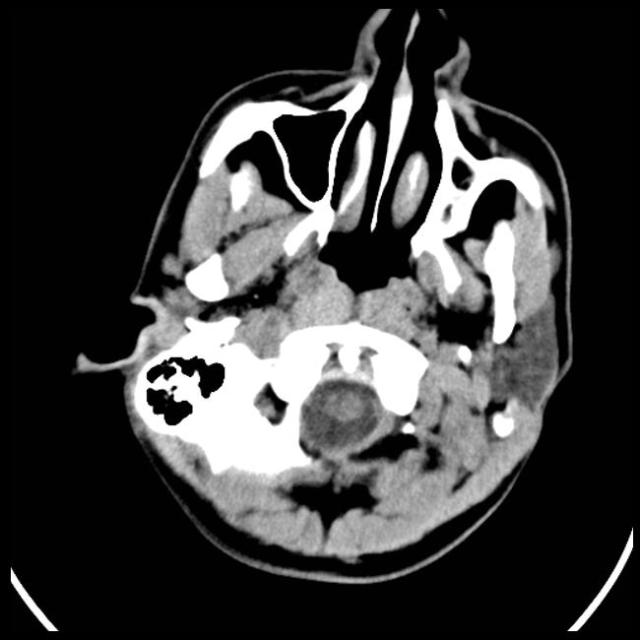lesion: (76, 4, 580, 582)
